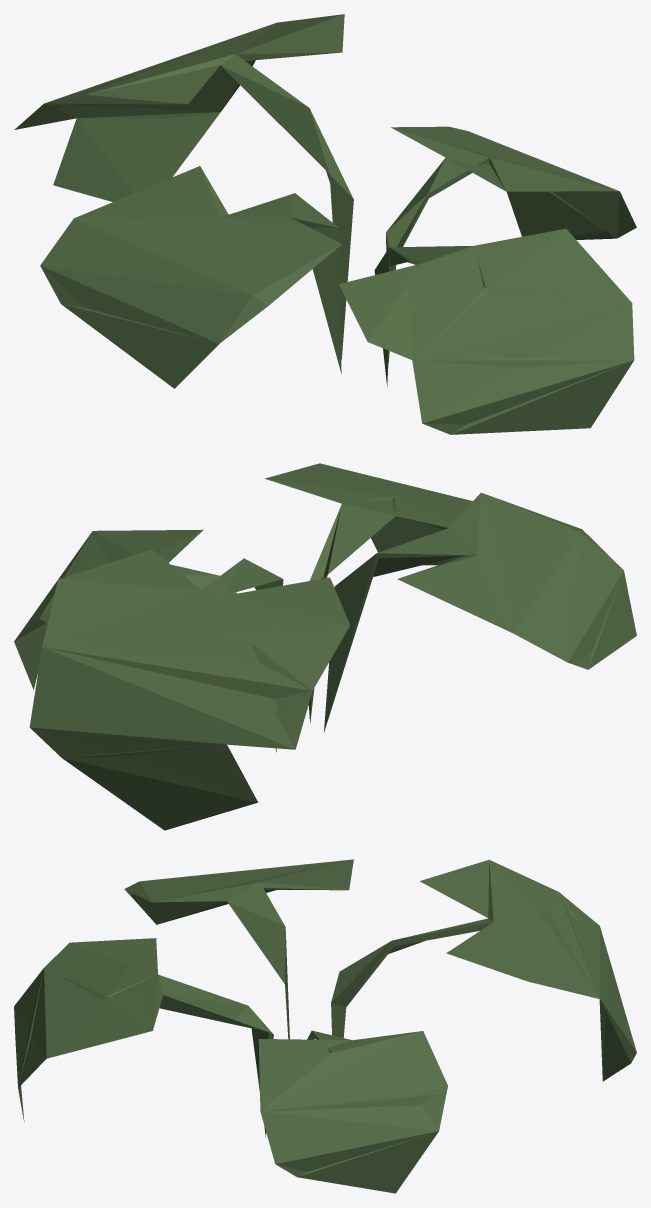
File: Plant_4.lod2.glb
The picture shows the model from 3 angles, top to bottom: view 1: azimuth 30°, elevation 25°; view 2: azimuth 150°, elevation 25°; view 3: azimuth 270°, elevation 25°; orthographic projection. The views are drawn at different scales.
Visible parts, largest first — view 1: Plant_4; view 2: Plant_4; view 3: Plant_4.
Boxes of the visible parts, x1,y1,x2,y2 form: Plant_4: [14, 14, 636, 434]; Plant_4: [14, 463, 636, 830]; Plant_4: [14, 859, 636, 1193].
Size of the model in its own units: 1.9 by 0.7978 by 2.12.
